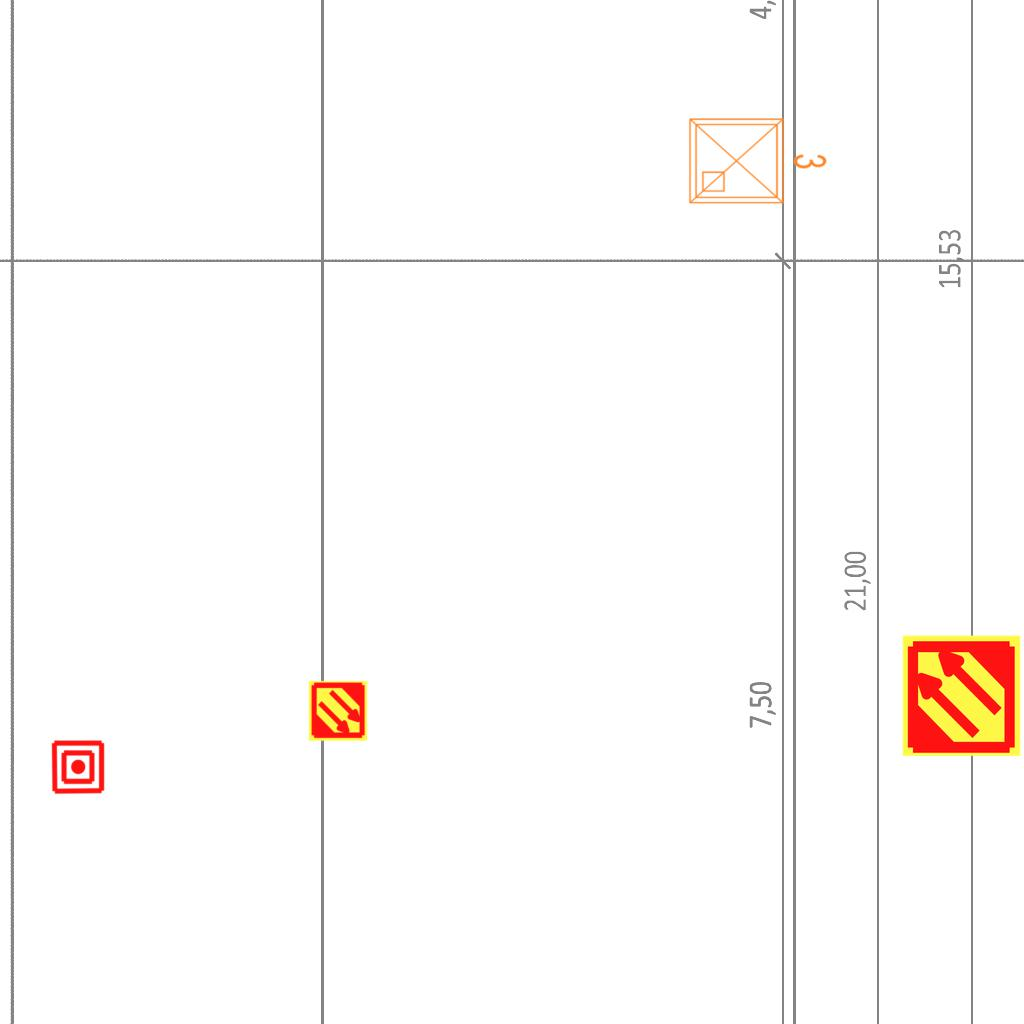ASR_Ansaugrauchmelder: (899, 633, 1024, 758), (307, 680, 369, 742)
Einbaudownlights_LED_Konferenzraeume: (682, 107, 832, 211)
NAM-Nichtautomatischer_Melder: (50, 739, 106, 795)
